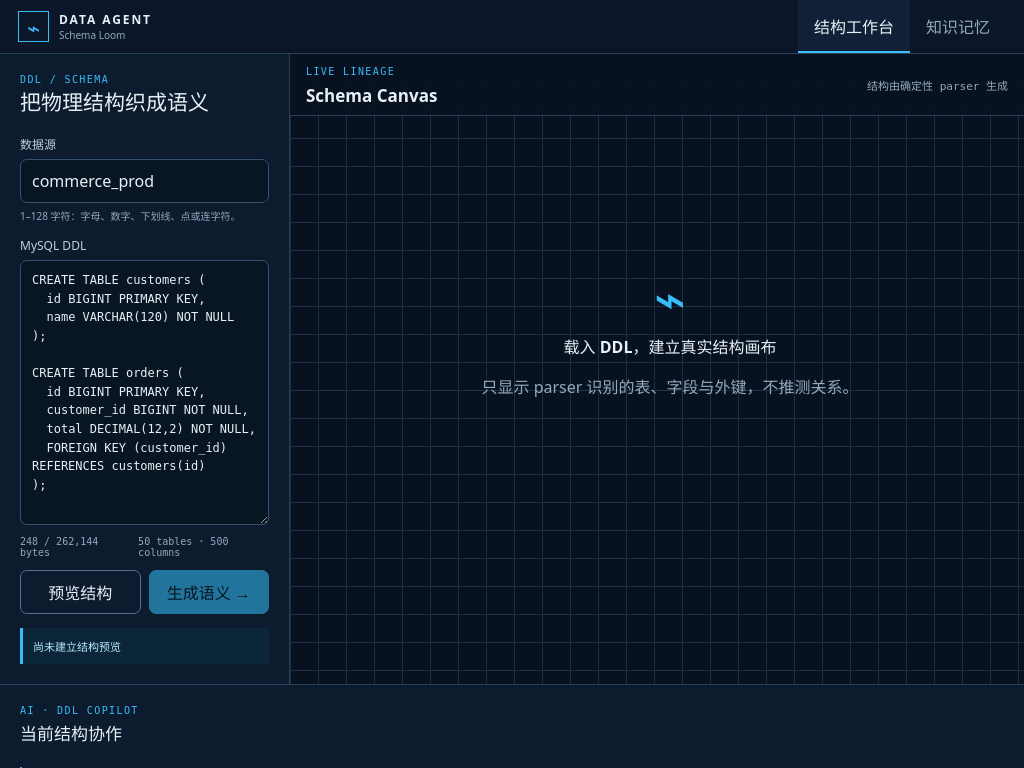
Test: application shell › renders the independent workbench and switches to knowledge memory
Expected: the heading "把物理结构织成语义" is shown, x1=20 y1=88 x2=209 y2=116
Expected: the element named "Schema 关系画布，可横向和纵向滚动" is shown, x1=290 y1=116 x2=1023 y2=684
Click the link "知识记忆".
click(958, 26)  # box x1=926 y1=16 x2=990 y2=38
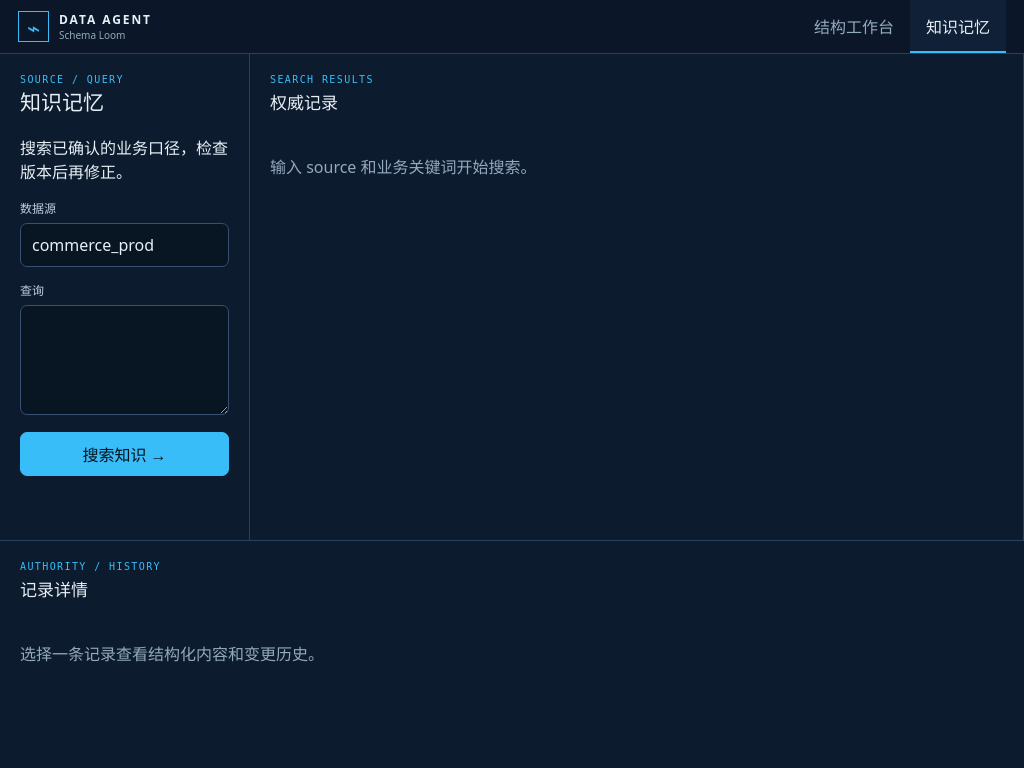
Now the heading "知识记忆" is shown, box x1=20 y1=88 x2=104 y2=116
